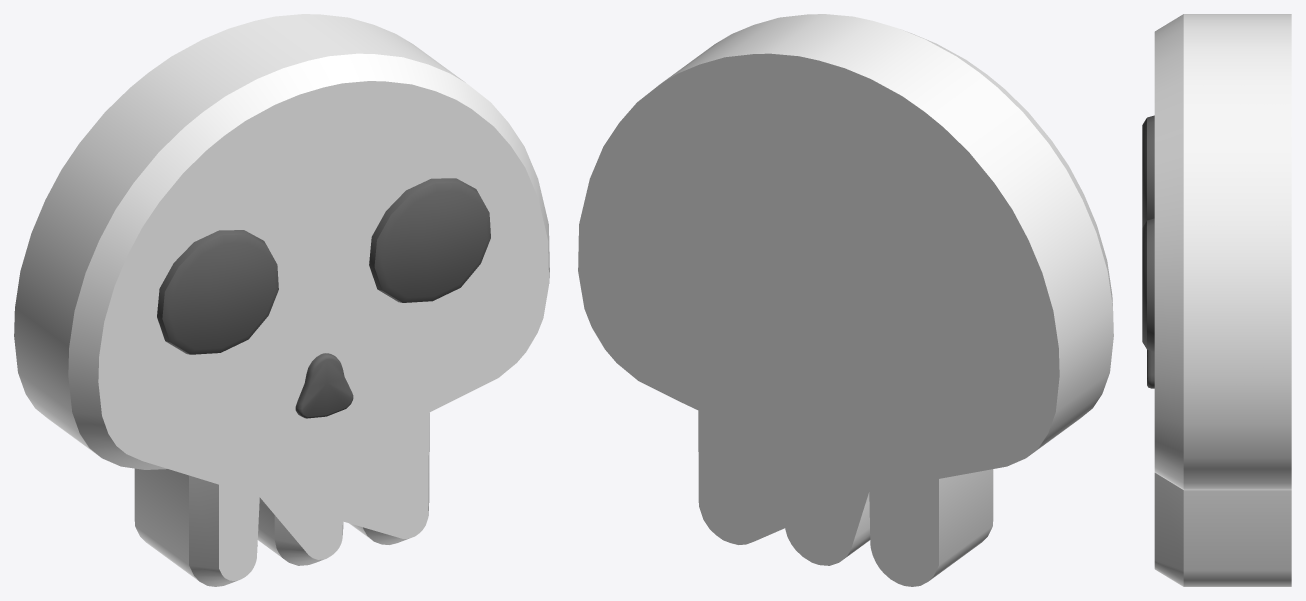
Rendered from Skull.fbx.
The picture shows the model from 3 angles, left to right: view 1: azimuth 30°, elevation 25°; view 2: azimuth 150°, elevation 25°; view 3: azimuth 270°, elevation 25°; orthographic projection.
Parts seen in each view (by area): view 1: Skull; view 2: Skull; view 3: Skull.
Boxes of the visible parts, box(x1,y1,x2,y2) form: Skull: box(14, 14, 549, 586); Skull: box(578, 14, 1113, 586); Skull: box(1142, 14, 1291, 586).
Bounding box in the file's own units: 0.2348 × 0.2351 × 0.0633.
